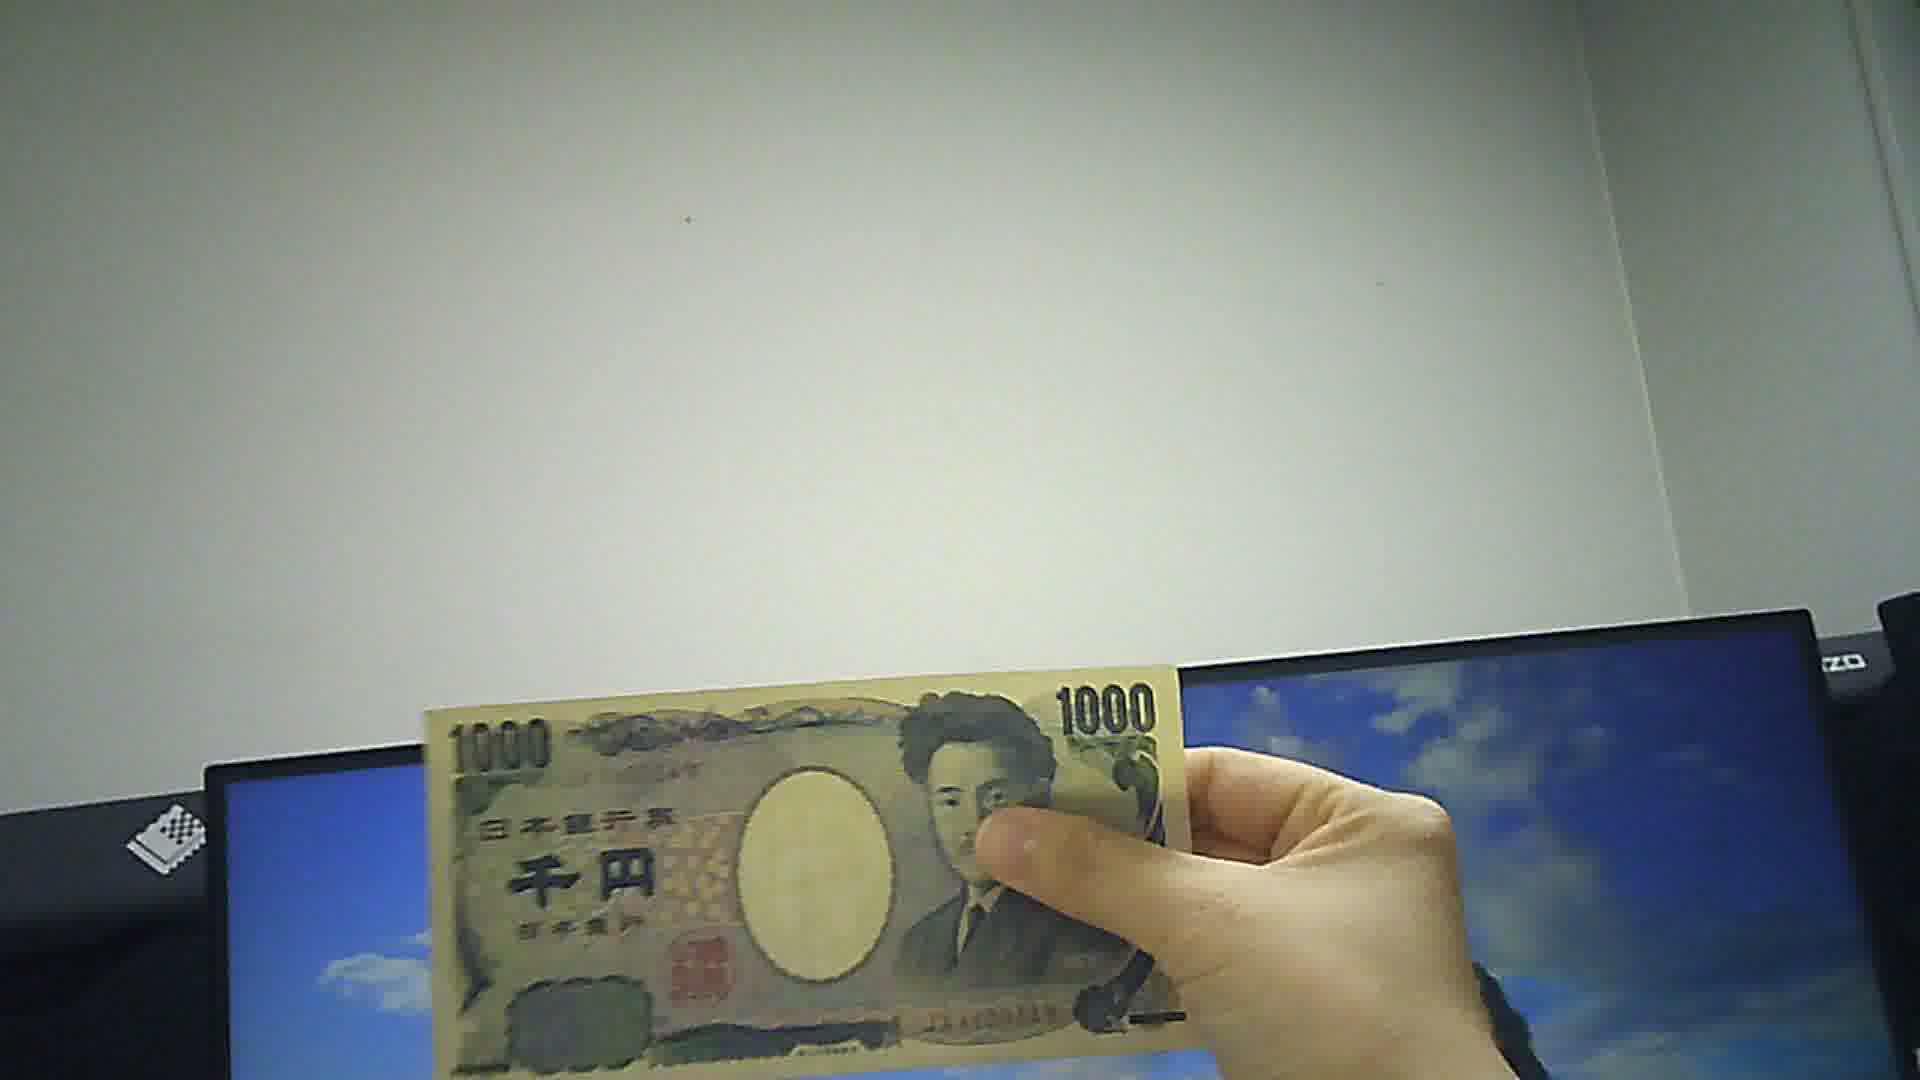1,000 Yen: (409, 669, 1224, 1079)
